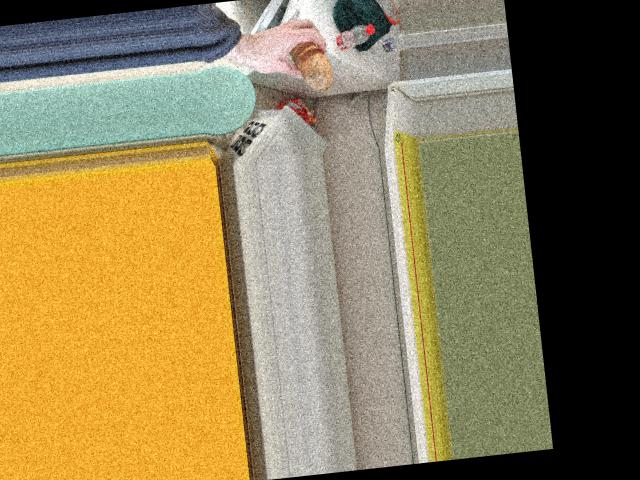sweet_potato: (289, 40, 333, 84)
